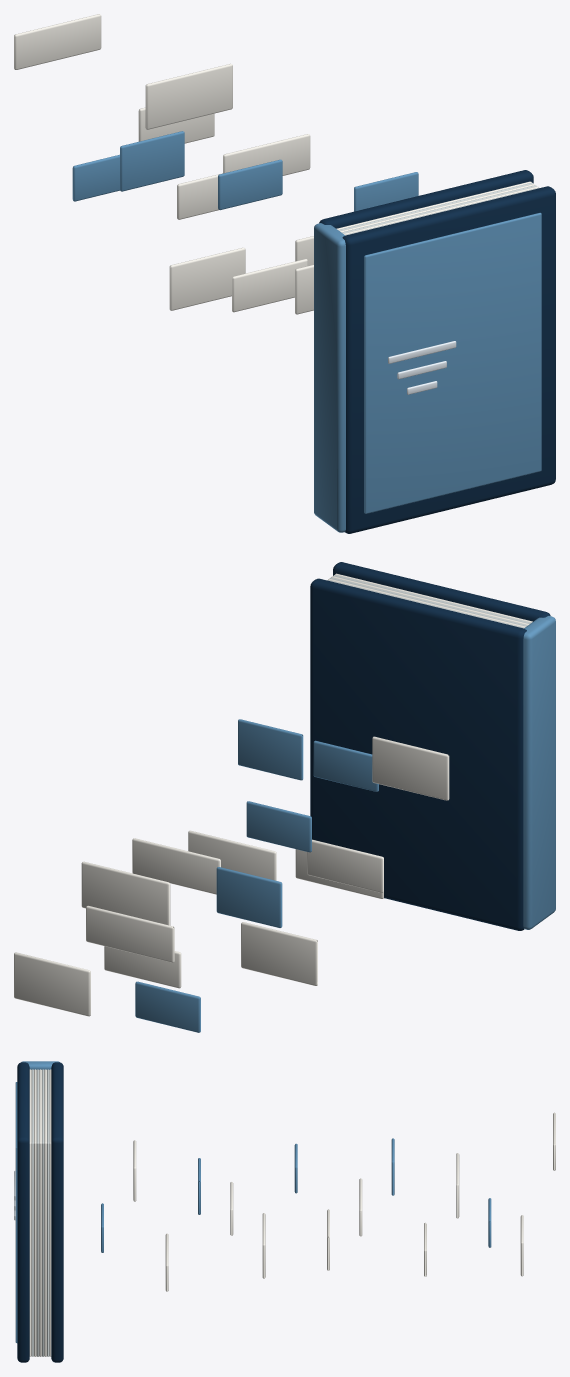
Rendered from socra-dialogue-book.glb.
3 renders of one model, top to bottom at view 1: azimuth 30°, elevation 25°; view 2: azimuth 150°, elevation 25°; view 3: azimuth 270°, elevation 25°, orthographic. The views are drawn at different scales.
Visible parts, largest first — view 1: FrontPanel, FrontCover, Spine, IdeaCard12, IdeaCard08, IdeaCard15, IdeaCard10, BackCover, IdeaCard05, IdeaCard07, IdeaCard09, IdeaCard13 (+4 smaller); view 2: BackCover, Spine, IdeaCard12, IdeaCard02, IdeaCard14, IdeaCard08, IdeaCard15, IdeaCard09, IdeaCard10, IdeaCard04, FrontCover, IdeaCard05 (+6 smaller); view 3: BackCover, FrontCover, Page04, Page05, Page01, Page02, Page03, Page07, Page08, Page06, Page09, FrontPanel.
Boxes of the visible parts, x1=… form: FrontPanel: x1=364, y1=212, x2=541, y2=513; FrontCover: x1=342, y1=186, x2=555, y2=533; Spine: x1=314, y1=223, x2=345, y2=532; IdeaCard12: x1=145, y1=63, x2=232, y2=129; IdeaCard08: x1=169, y1=247, x2=245, y2=310; IdeaCard15: x1=14, y1=14, x2=101, y2=69; IdeaCard10: x1=120, y1=131, x2=184, y2=191; BackCover: x1=319, y1=170, x2=533, y2=228; IdeaCard05: x1=232, y1=259, x2=307, y2=312; IdeaCard07: x1=218, y1=159, x2=282, y2=210; IdeaCard09: x1=223, y1=134, x2=310, y2=175; IdeaCard13: x1=72, y1=154, x2=120, y2=201; BackCover: x1=310, y1=578, x2=526, y2=930; Spine: x1=523, y1=616, x2=555, y2=929; IdeaCard12: x1=81, y1=861, x2=170, y2=925; IdeaCard02: x1=372, y1=736, x2=449, y2=800; IdeaCard14: x1=14, y1=952, x2=90, y2=1016; IdeaCard08: x1=241, y1=922, x2=317, y2=985; IdeaCard15: x1=86, y1=905, x2=174, y2=962; IdeaCard09: x1=132, y1=838, x2=220, y2=894; IdeaCard10: x1=216, y1=867, x2=282, y2=927; IdeaCard04: x1=238, y1=719, x2=303, y2=780; FrontCover: x1=333, y1=562, x2=550, y2=621; IdeaCard05: x1=307, y1=839, x2=383, y2=892; BackCover: x1=51, y1=1062, x2=63, y2=1362; FrontCover: x1=17, y1=1062, x2=29, y2=1362; Page04: x1=36, y1=1069, x2=39, y2=1356; Page05: x1=39, y1=1069, x2=41, y2=1356; Page01: x1=29, y1=1069, x2=31, y2=1356; Page02: x1=31, y1=1069, x2=33, y2=1356; Page03: x1=34, y1=1069, x2=36, y2=1356; Page07: x1=44, y1=1069, x2=46, y2=1356; Page08: x1=47, y1=1069, x2=49, y2=1356; Page06: x1=42, y1=1069, x2=44, y2=1356; Page09: x1=49, y1=1069, x2=51, y2=1356; FrontPanel: x1=15, y1=1082, x2=17, y2=1342.
Size of the model in its own units: 2.31 by 3 by 6.55.
